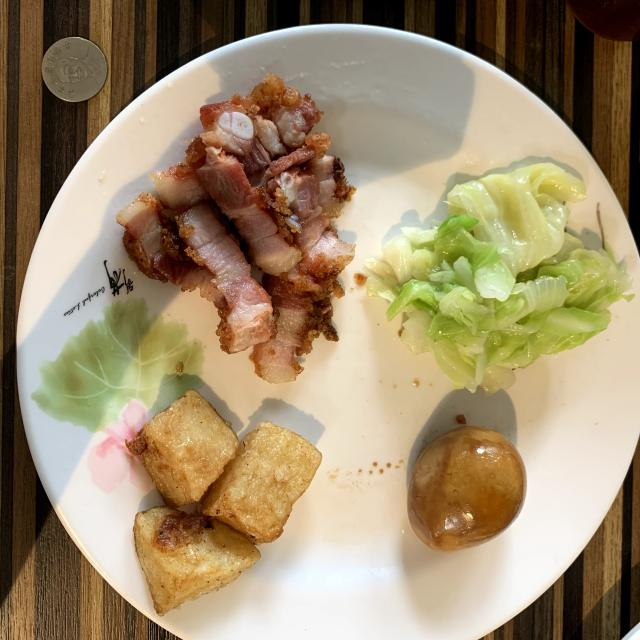cabbage: (365, 162, 632, 394)
coin: (42, 36, 108, 102)
fried potato: (126, 390, 321, 615)
red grilled pork: (116, 74, 355, 382)
soy egg: (408, 426, 526, 551)
